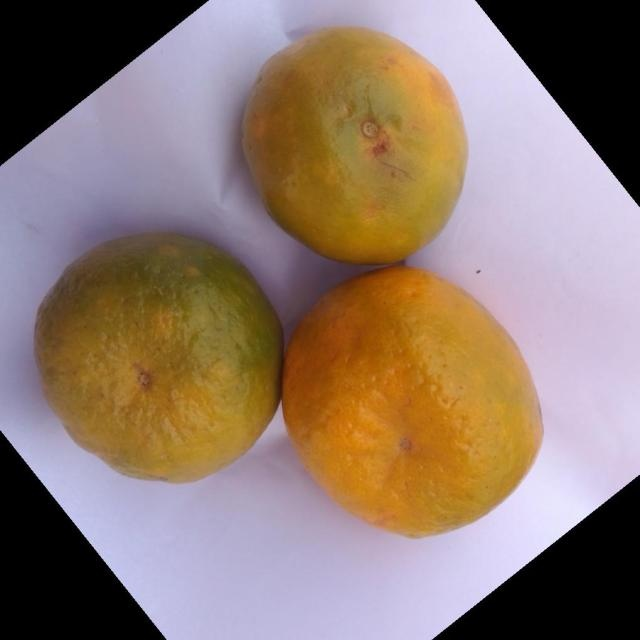agrume: (280, 264, 544, 539), (32, 229, 284, 484), (240, 24, 468, 265)
